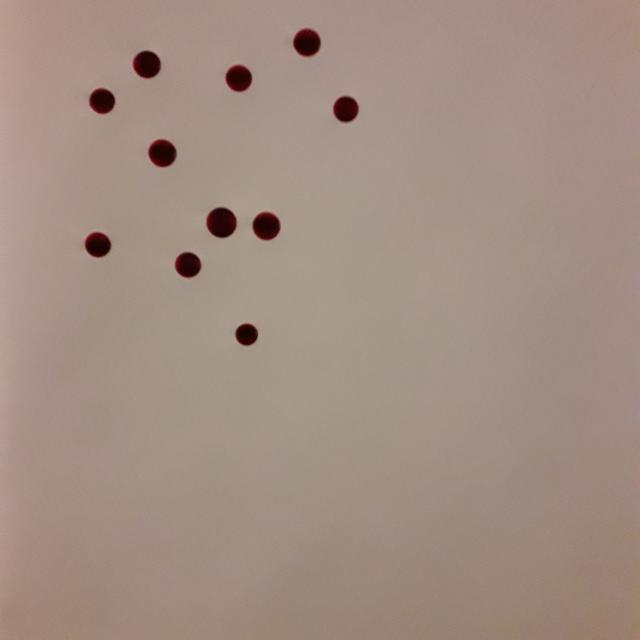wound: (74, 73, 128, 137), (317, 84, 378, 140), (66, 220, 128, 273), (282, 19, 338, 73), (115, 39, 175, 89), (194, 199, 248, 251), (136, 130, 186, 182), (216, 57, 268, 106), (246, 204, 300, 249), (223, 308, 268, 358), (168, 246, 215, 289)
